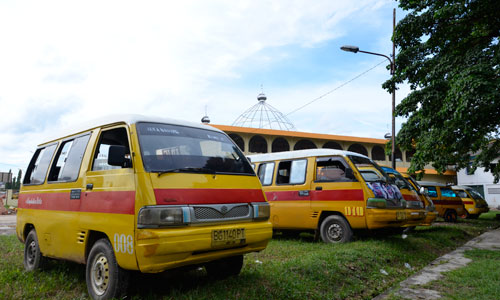plate: (210, 228, 243, 245)
